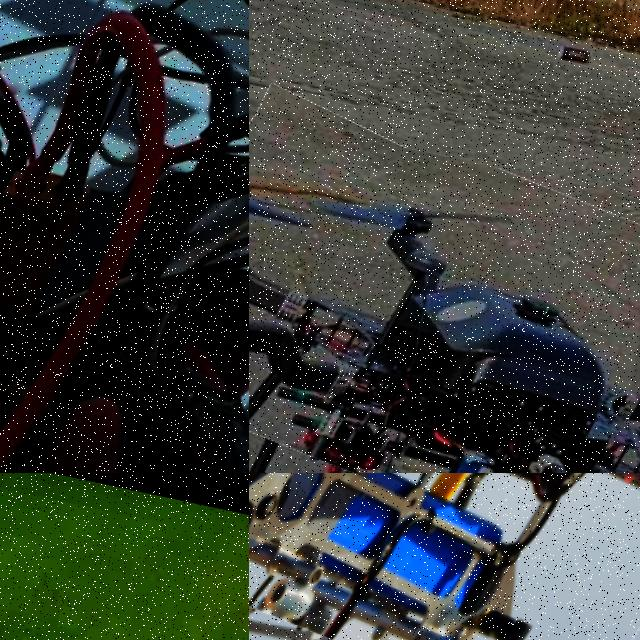drone: (249, 107, 640, 473), (0, 0, 249, 473), (249, 473, 640, 640)
